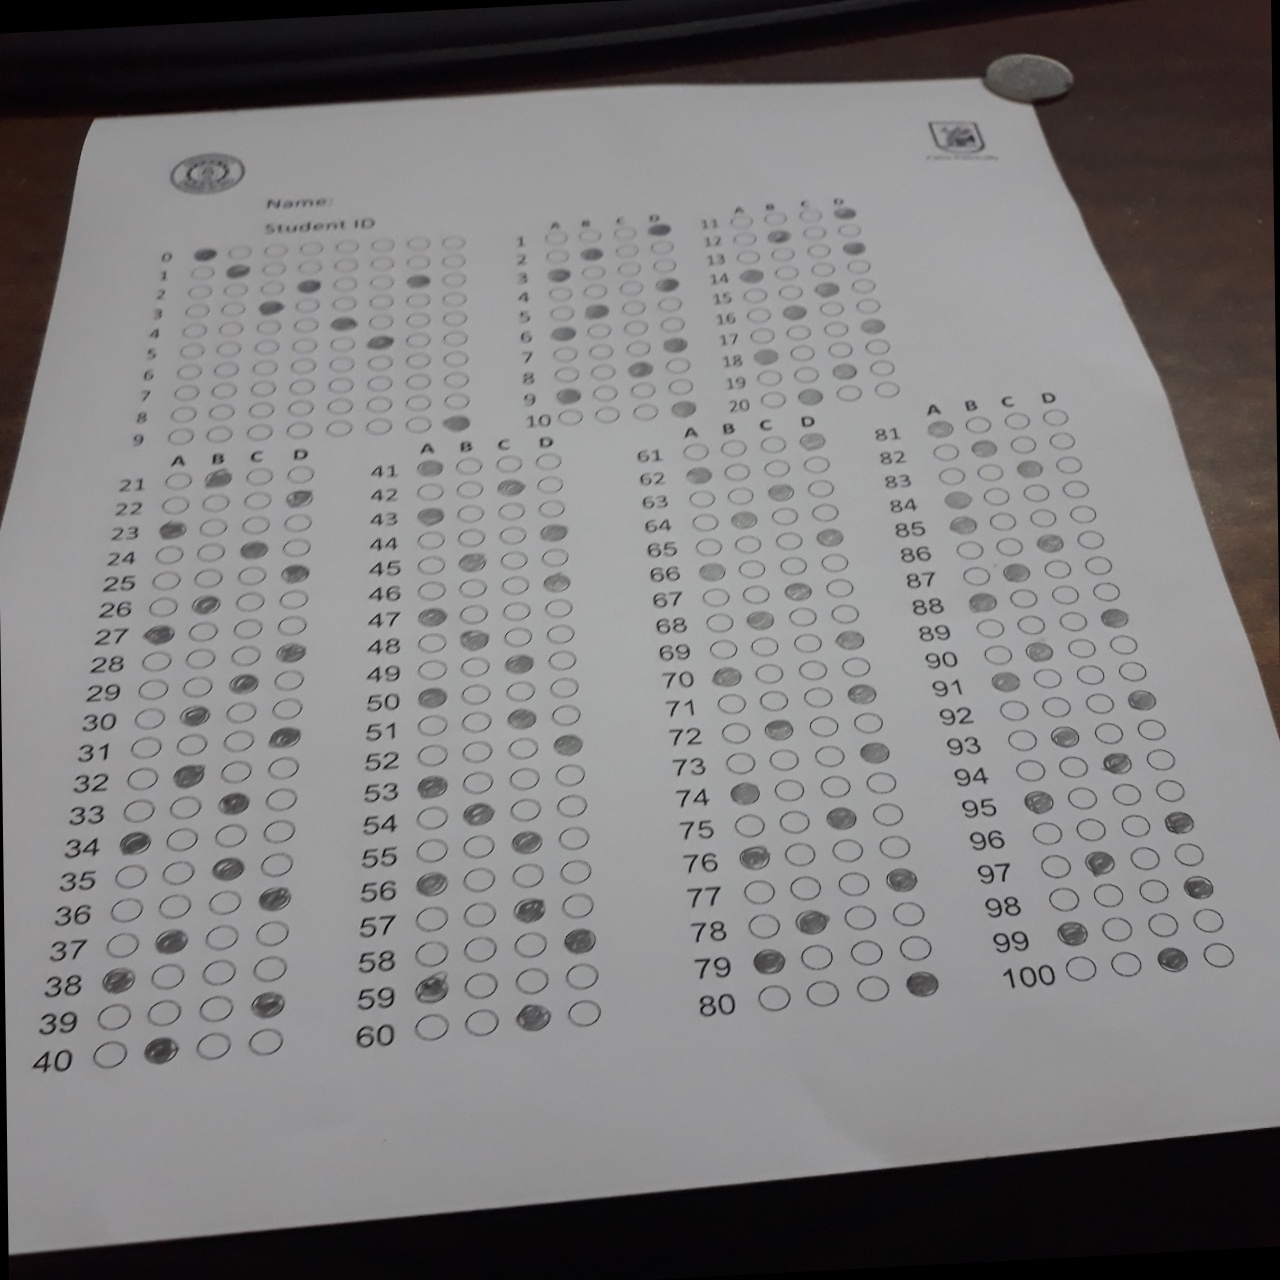not-c: (411, 937, 451, 968), (511, 928, 551, 959), (93, 1001, 132, 1032), (898, 931, 935, 962), (787, 871, 824, 903), (855, 972, 893, 1002), (802, 978, 840, 1008), (888, 897, 927, 927), (731, 809, 770, 839), (458, 934, 497, 965), (512, 966, 551, 996), (149, 960, 188, 990), (155, 891, 193, 921), (156, 856, 195, 886), (742, 874, 779, 905), (828, 835, 865, 865), (559, 888, 597, 919), (463, 1008, 501, 1039), (144, 998, 182, 1028), (196, 993, 233, 1023), (199, 956, 237, 987), (252, 952, 290, 982), (252, 918, 290, 948), (206, 885, 244, 915), (259, 849, 297, 879), (260, 815, 298, 845), (210, 821, 247, 851), (840, 903, 879, 932), (876, 832, 914, 862), (561, 960, 600, 989), (462, 971, 501, 1000), (563, 998, 601, 1027), (246, 1026, 285, 1055), (91, 1039, 130, 1068), (104, 930, 143, 959), (105, 896, 144, 925), (162, 825, 200, 855), (847, 937, 884, 967), (776, 805, 812, 836), (756, 982, 794, 1012), (747, 912, 784, 941), (781, 839, 818, 869), (413, 1010, 450, 1040), (195, 1032, 232, 1061), (203, 921, 241, 949), (111, 862, 150, 890), (798, 942, 835, 972), (837, 869, 873, 898), (869, 798, 905, 828), (121, 797, 155, 826), (812, 740, 847, 768), (724, 749, 760, 777), (719, 717, 753, 745), (168, 792, 202, 821), (462, 900, 497, 927), (415, 904, 450, 931), (772, 775, 805, 803), (853, 708, 886, 736), (864, 768, 898, 795), (767, 745, 801, 772), (806, 712, 840, 738), (263, 785, 297, 812), (818, 772, 851, 799), (129, 733, 162, 760), (229, 644, 263, 669), (509, 796, 540, 823), (415, 803, 448, 829), (461, 867, 493, 893), (267, 754, 300, 779), (223, 700, 256, 726), (186, 645, 219, 670), (231, 617, 264, 642), (233, 588, 266, 614), (222, 728, 256, 753), (137, 648, 171, 673), (275, 586, 309, 611), (1065, 954, 1095, 982), (458, 740, 493, 763), (505, 734, 540, 757), (511, 862, 542, 888), (1129, 844, 1160, 870), (1109, 951, 1141, 976), (554, 761, 586, 787), (459, 769, 491, 795), (556, 794, 587, 819), (416, 837, 448, 863), (557, 825, 588, 851), (1099, 915, 1132, 940), (177, 730, 210, 755), (125, 767, 158, 791), (132, 704, 165, 729), (270, 695, 302, 720), (272, 668, 305, 693), (135, 676, 168, 701), (186, 619, 219, 644), (274, 612, 307, 636), (154, 542, 186, 566), (508, 765, 542, 789), (1007, 727, 1037, 753), (1155, 777, 1185, 803), (1040, 852, 1070, 878), (1172, 840, 1203, 866), (1192, 907, 1223, 933), (463, 833, 493, 859), (758, 687, 790, 712), (802, 685, 833, 709), (754, 660, 785, 685), (707, 636, 738, 661), (549, 673, 580, 697), (416, 712, 448, 736), (415, 656, 448, 680), (458, 654, 491, 678), (549, 703, 581, 727), (181, 675, 213, 699), (1094, 719, 1123, 744), (1111, 781, 1141, 806), (1075, 815, 1104, 840), (1092, 881, 1122, 907), (1136, 716, 1166, 741), (1015, 757, 1046, 782), (1146, 912, 1177, 937), (1201, 942, 1232, 967), (716, 690, 747, 715), (791, 629, 822, 654), (703, 610, 734, 634), (506, 678, 537, 702), (560, 859, 591, 884), (1047, 886, 1078, 910), (796, 658, 828, 681), (748, 634, 779, 658), (546, 648, 578, 672), (219, 758, 251, 782), (147, 594, 178, 618), (461, 710, 493, 733), (1057, 753, 1085, 778), (1145, 745, 1175, 770), (1121, 812, 1150, 837), (1138, 878, 1167, 903), (840, 654, 871, 678), (772, 529, 804, 551), (454, 502, 485, 524), (459, 683, 491, 706), (415, 743, 447, 765), (282, 511, 314, 533), (241, 512, 273, 535), (158, 493, 190, 516), (200, 491, 233, 512), (243, 465, 275, 486), (1065, 785, 1095, 809), (1032, 821, 1061, 844), (999, 697, 1029, 720), (700, 585, 730, 607), (735, 557, 765, 579), (734, 532, 764, 554), (769, 504, 799, 526), (809, 501, 839, 523), (717, 437, 748, 459), (452, 454, 483, 476), (452, 477, 483, 499), (456, 526, 486, 549), (416, 579, 447, 601), (457, 577, 488, 599), (544, 622, 574, 645), (544, 595, 574, 618), (192, 566, 223, 588), (151, 568, 182, 591), (193, 542, 224, 564), (281, 535, 312, 557), (829, 601, 860, 622), (799, 452, 831, 474), (234, 564, 266, 585), (243, 490, 275, 510), (1118, 659, 1148, 681), (416, 529, 445, 551), (458, 602, 488, 625), (1075, 663, 1105, 685), (1041, 695, 1071, 716), (738, 583, 769, 604), (776, 554, 806, 576), (694, 535, 724, 556), (689, 511, 720, 532), (686, 486, 716, 508), (681, 440, 712, 461), (756, 433, 787, 454), (493, 452, 524, 474), (414, 481, 444, 502), (535, 497, 565, 518), (496, 501, 526, 522), (496, 525, 526, 546), (496, 549, 526, 570), (501, 574, 531, 595), (415, 632, 445, 653), (198, 517, 229, 538), (285, 463, 315, 484), (787, 606, 818, 626), (1065, 636, 1095, 658), (1109, 633, 1138, 654), (1032, 666, 1061, 687), (825, 576, 855, 597), (805, 477, 835, 498), (723, 459, 753, 481), (724, 484, 754, 505), (535, 474, 564, 495), (540, 547, 570, 568), (416, 554, 445, 576), (1085, 692, 1116, 712), (762, 457, 792, 477), (535, 450, 565, 470), (502, 601, 532, 621), (503, 626, 533, 646), (1092, 580, 1121, 601), (873, 377, 901, 399), (791, 365, 821, 384), (821, 552, 850, 572), (817, 298, 847, 316), (163, 470, 193, 489), (965, 414, 992, 435), (1055, 452, 1082, 474), (982, 485, 1009, 506), (1022, 482, 1049, 503), (1076, 529, 1103, 550), (962, 564, 989, 585), (975, 462, 1003, 482), (995, 536, 1023, 556), (1085, 554, 1114, 574), (1058, 610, 1087, 629), (1015, 614, 1043, 634), (975, 618, 1003, 638), (983, 644, 1012, 663), (245, 421, 273, 441), (863, 336, 892, 355), (788, 343, 817, 362), (749, 325, 778, 343), (849, 275, 878, 294), (775, 282, 804, 301), (204, 425, 233, 444), (1009, 434, 1036, 454), (1049, 430, 1076, 450), (931, 441, 958, 461), (1062, 478, 1089, 498), (1029, 508, 1056, 527), (989, 510, 1016, 530), (956, 539, 983, 559), (1009, 587, 1036, 607), (835, 381, 862, 401), (760, 389, 787, 409), (287, 420, 314, 440), (169, 403, 196, 423), (207, 401, 234, 421), (248, 399, 275, 418), (286, 399, 313, 418), (326, 396, 353, 416), (1042, 407, 1070, 425), (1051, 584, 1080, 602), (867, 358, 896, 376), (828, 339, 856, 358), (808, 259, 836, 278), (784, 324, 813, 341), (740, 285, 769, 302), (250, 377, 275, 397), (1005, 410, 1032, 429), (938, 467, 965, 485), (1070, 504, 1097, 523), (1044, 558, 1071, 577), (549, 304, 576, 322), (624, 338, 651, 356), (629, 380, 656, 399), (325, 418, 352, 437), (166, 428, 193, 447), (366, 394, 393, 413), (367, 353, 394, 372), (225, 241, 252, 260), (822, 320, 850, 338), (855, 295, 883, 313), (744, 306, 772, 324), (772, 263, 801, 280), (546, 285, 574, 302), (553, 365, 581, 382), (189, 264, 217, 281), (558, 407, 583, 427), (444, 390, 469, 410), (770, 243, 796, 261), (256, 318, 281, 336), (253, 338, 279, 356), (216, 339, 241, 358), (755, 368, 782, 386), (733, 229, 760, 246), (761, 207, 788, 225), (647, 238, 674, 256), (613, 241, 640, 259), (622, 318, 649, 335), (588, 362, 615, 380), (365, 417, 392, 435), (406, 372, 433, 389), (173, 383, 200, 401), (327, 355, 354, 373), (406, 350, 433, 368), (298, 239, 325, 257), (263, 241, 290, 259), (801, 224, 829, 240), (663, 356, 692, 373), (592, 382, 617, 401), (595, 404, 620, 423), (633, 402, 658, 421), (367, 373, 392, 392), (212, 380, 237, 399), (218, 318, 243, 336), (845, 257, 871, 274), (735, 247, 761, 265), (619, 279, 645, 297), (579, 264, 605, 281), (620, 298, 646, 315), (668, 376, 694, 394), (406, 415, 431, 433), (290, 377, 315, 395), (253, 358, 279, 375), (406, 331, 431, 348), (406, 309, 431, 327), (442, 308, 468, 326), (370, 292, 396, 309), (407, 291, 433, 308), (441, 268, 467, 286), (372, 234, 397, 252), (805, 241, 832, 258), (727, 212, 754, 229), (611, 224, 638, 240), (542, 229, 568, 245), (615, 261, 642, 278), (651, 257, 678, 273), (656, 294, 683, 311), (658, 314, 685, 331), (585, 322, 612, 339), (587, 343, 614, 360), (331, 275, 358, 292), (367, 273, 394, 290), (334, 237, 361, 253), (295, 259, 322, 275), (260, 280, 287, 297), (188, 282, 215, 299), (406, 393, 430, 410), (444, 369, 469, 387), (215, 360, 239, 377), (369, 313, 394, 331), (220, 299, 245, 316), (334, 256, 359, 273), (544, 246, 570, 263), (581, 282, 607, 299), (552, 345, 578, 361), (328, 375, 354, 392), (177, 362, 203, 379), (291, 356, 316, 373), (291, 336, 316, 353), (292, 316, 318, 333), (181, 341, 206, 358), (184, 302, 210, 319), (442, 290, 468, 306), (406, 233, 431, 250), (441, 252, 467, 268), (370, 254, 396, 271), (263, 260, 288, 277), (835, 222, 862, 237), (576, 227, 602, 243), (331, 295, 358, 311), (406, 254, 433, 270), (220, 281, 247, 297), (442, 349, 467, 366), (442, 329, 467, 346), (331, 335, 355, 352), (796, 206, 822, 222), (441, 234, 467, 250), (183, 322, 207, 338), (297, 298, 320, 313)
taken-c: (100, 964, 137, 993), (413, 973, 450, 1002), (152, 927, 189, 956), (144, 1036, 181, 1065), (517, 1002, 553, 1032), (512, 896, 549, 925), (413, 867, 450, 896), (458, 799, 496, 828), (256, 884, 291, 913), (411, 770, 447, 799), (251, 989, 287, 1017), (559, 926, 595, 954), (509, 828, 545, 856), (207, 855, 245, 881), (1051, 919, 1089, 946), (1123, 685, 1160, 712), (1094, 604, 1131, 631), (736, 843, 772, 870), (791, 908, 828, 935), (883, 866, 919, 893), (750, 947, 787, 974), (1081, 847, 1117, 874), (1019, 789, 1055, 816), (1048, 722, 1084, 749), (988, 668, 1024, 695), (823, 804, 858, 831), (903, 971, 938, 998), (1153, 945, 1189, 972), (1160, 808, 1196, 835), (1098, 749, 1133, 776), (1019, 636, 1054, 663), (726, 781, 762, 806), (857, 740, 893, 765), (1179, 874, 1216, 900), (551, 731, 585, 756), (414, 503, 449, 526), (709, 665, 744, 688), (457, 627, 489, 653), (455, 550, 486, 576), (845, 682, 881, 704), (504, 706, 537, 730), (414, 685, 447, 709), (502, 651, 536, 674), (495, 476, 529, 499), (414, 455, 448, 478), (728, 508, 762, 531), (794, 429, 828, 452), (812, 526, 847, 549), (536, 520, 570, 543), (782, 580, 816, 602), (694, 560, 728, 583), (831, 628, 865, 651), (760, 719, 794, 741), (120, 830, 150, 855), (268, 728, 300, 751), (217, 792, 248, 816), (765, 481, 799, 502), (744, 610, 778, 631), (227, 672, 258, 695), (173, 763, 204, 787), (274, 641, 306, 663), (416, 605, 445, 628), (181, 704, 211, 727), (1035, 530, 1065, 552), (1013, 458, 1043, 481), (542, 571, 571, 593), (947, 515, 976, 537), (942, 489, 972, 511), (143, 624, 173, 645), (683, 464, 714, 485), (966, 592, 996, 613), (1000, 561, 1029, 583), (925, 417, 954, 438), (284, 486, 312, 508), (157, 519, 185, 540), (191, 594, 219, 615), (281, 561, 309, 583), (968, 438, 998, 458), (750, 347, 778, 367), (203, 468, 231, 488), (240, 540, 268, 560), (190, 244, 218, 263), (545, 265, 572, 284), (549, 325, 576, 343), (625, 360, 653, 377), (668, 400, 696, 417), (585, 302, 613, 320), (554, 386, 583, 403), (442, 415, 470, 433), (294, 278, 322, 295), (258, 299, 286, 316), (403, 271, 430, 288), (224, 261, 251, 279), (367, 334, 395, 350), (328, 316, 355, 333), (831, 362, 856, 380), (645, 220, 672, 236), (840, 239, 865, 256), (813, 280, 838, 297), (783, 302, 808, 319), (738, 266, 763, 282), (577, 247, 605, 261), (653, 275, 679, 291), (663, 338, 689, 353), (833, 203, 857, 219), (859, 318, 883, 334), (798, 387, 822, 403), (764, 227, 791, 241)
